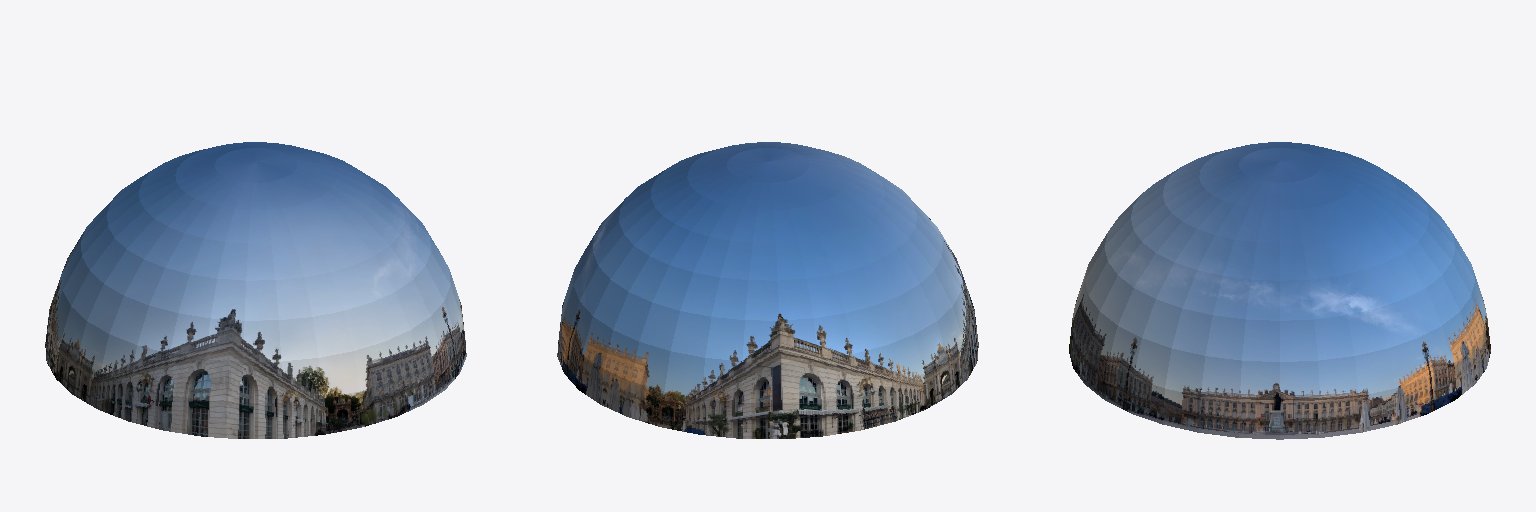
The picture shows the model from 3 angles: view 1: azimuth 30°, elevation 25°; view 2: azimuth 150°, elevation 25°; view 3: azimuth 270°, elevation 25°; orthographic projection.
Parts seen in each view (by area): view 1: Sphere; view 2: Sphere; view 3: Sphere.
Part boxes in pixels (bbox=[...]): Sphere: bbox=[45, 142, 466, 438]; Sphere: bbox=[557, 142, 978, 438]; Sphere: bbox=[1069, 142, 1490, 439].
Bounding box in the file's own units: 7.89 × 3.89 × 7.89.
Materials: 1 (1 with a texture image).